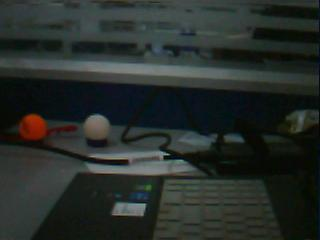oball: (18, 113, 47, 139)
